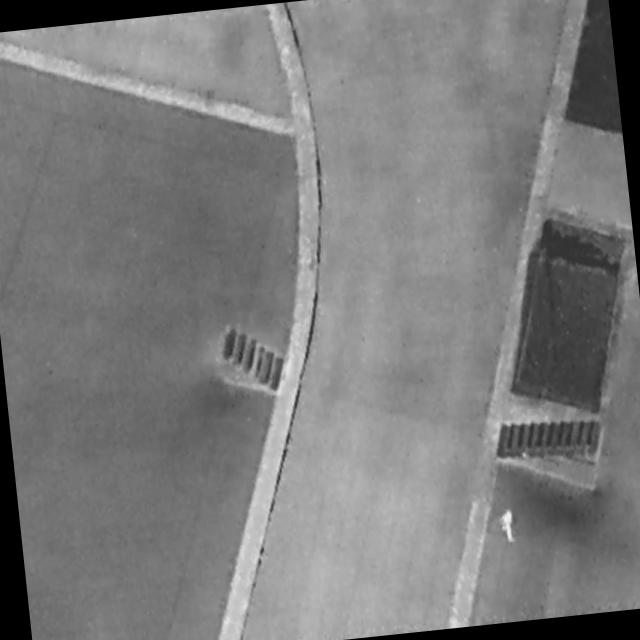person: (499, 507, 518, 547)
